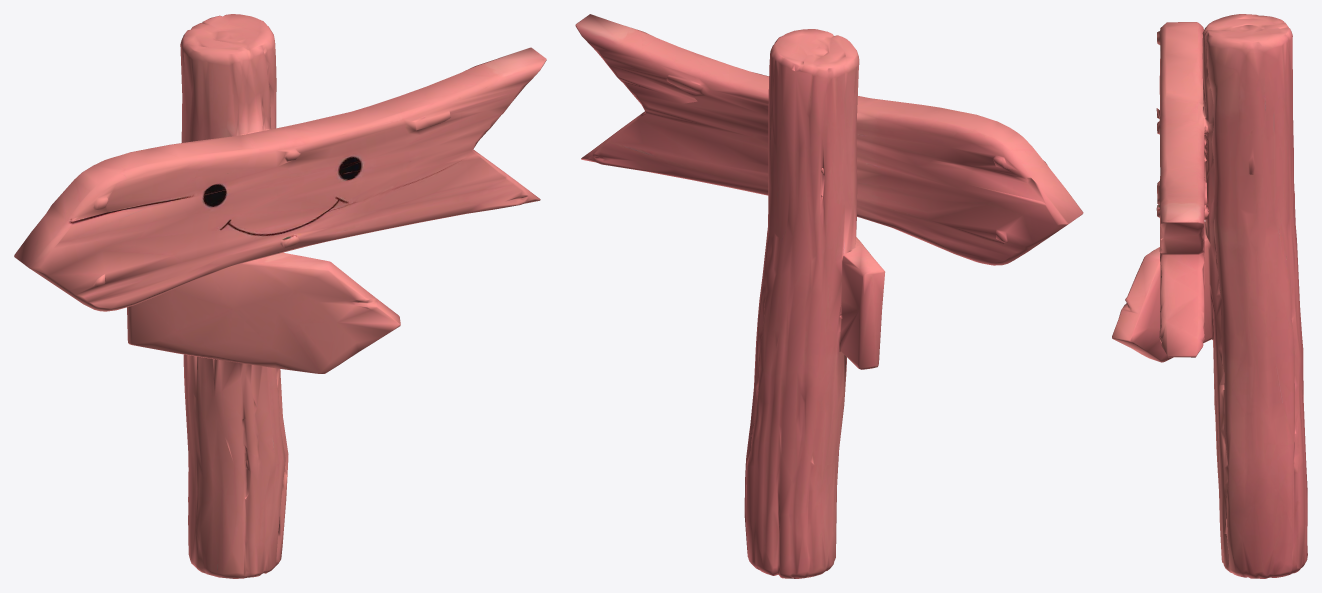
The model's file is clay-signpost.glb.
3 views of the same model, side by side, from view 1: azimuth 30°, elevation 25°; view 2: azimuth 150°, elevation 25°; view 3: azimuth 270°, elevation 25° (orthographic). The views are drawn at different scales.
Size of the model in its own units: 1.91 by 1.91 by 0.6378.
Materials: 1 (1 with a texture image).
